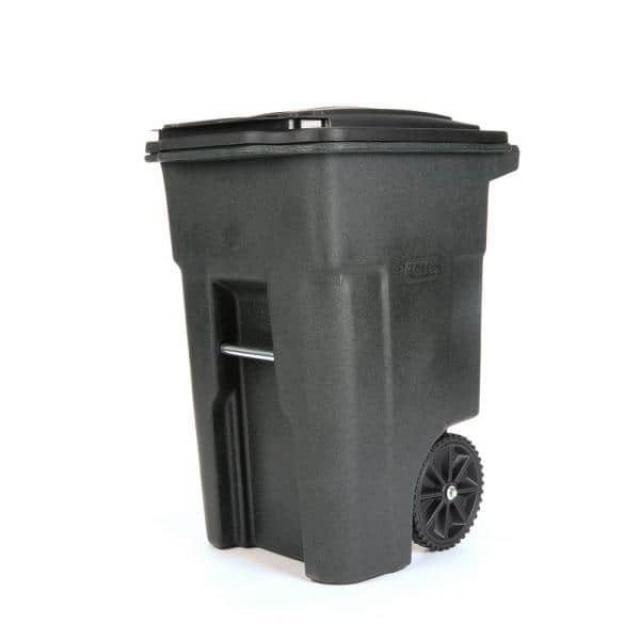Dumpster: (146, 100, 522, 588)
